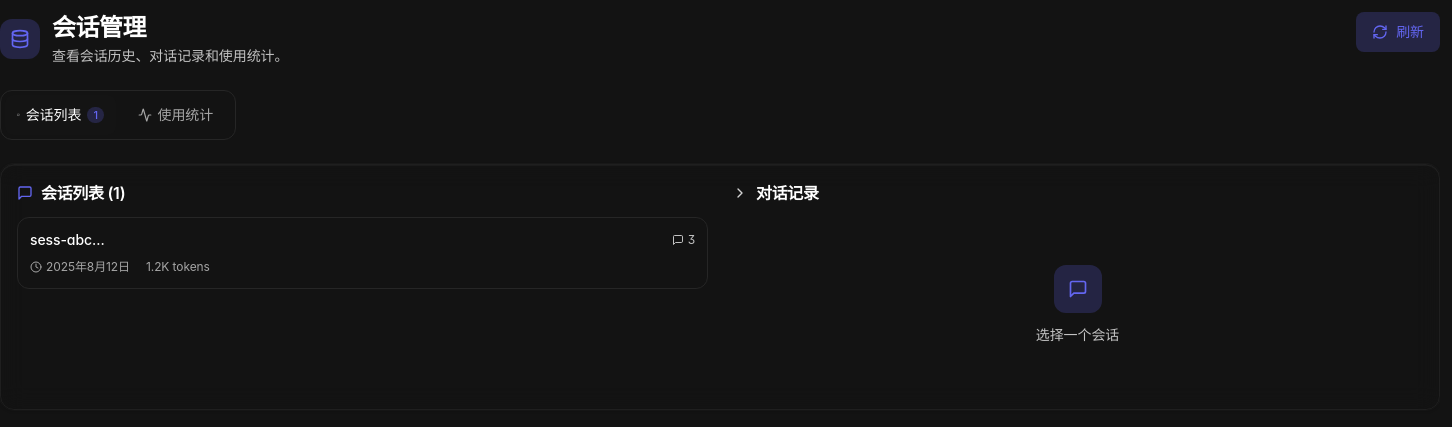
Test case: Sessions page — usage scenarios › lists sessions from the API and opens a conversation on click
点击会话 → 加载该会话消息
Click the button "sess-abc" at (61, 240), box [17, 217, 708, 289]
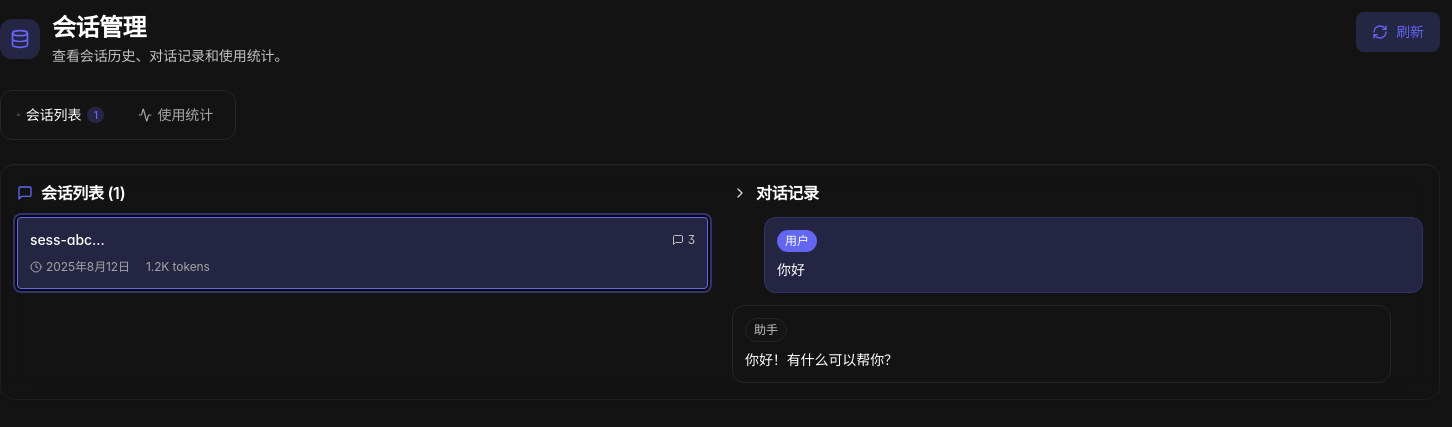
Result: the text "你好" is shown at [777, 261, 805, 278]
Result: the text "你好！有什么可以帮你？" is shown at [745, 351, 898, 368]
